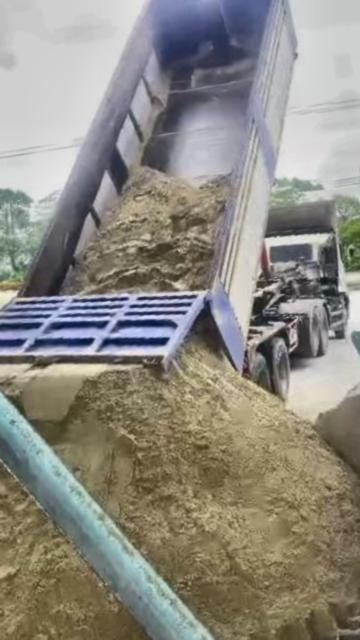sand: (0, 338, 360, 640), (0, 455, 173, 640), (68, 170, 222, 292), (314, 376, 360, 492), (195, 318, 218, 354)
